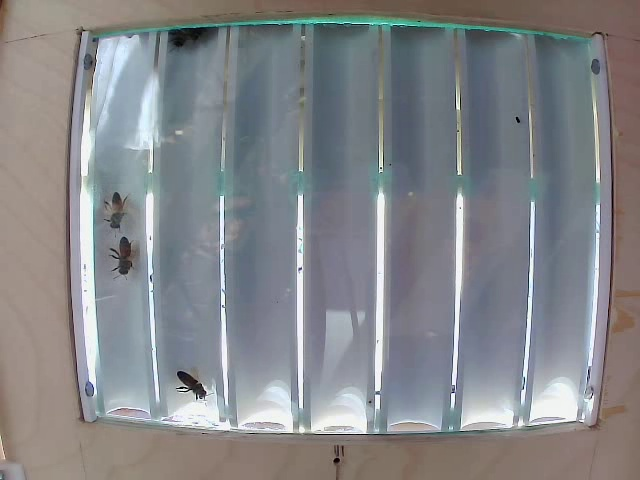bee: (99, 186, 132, 236), (175, 367, 212, 407), (113, 236, 145, 278)
